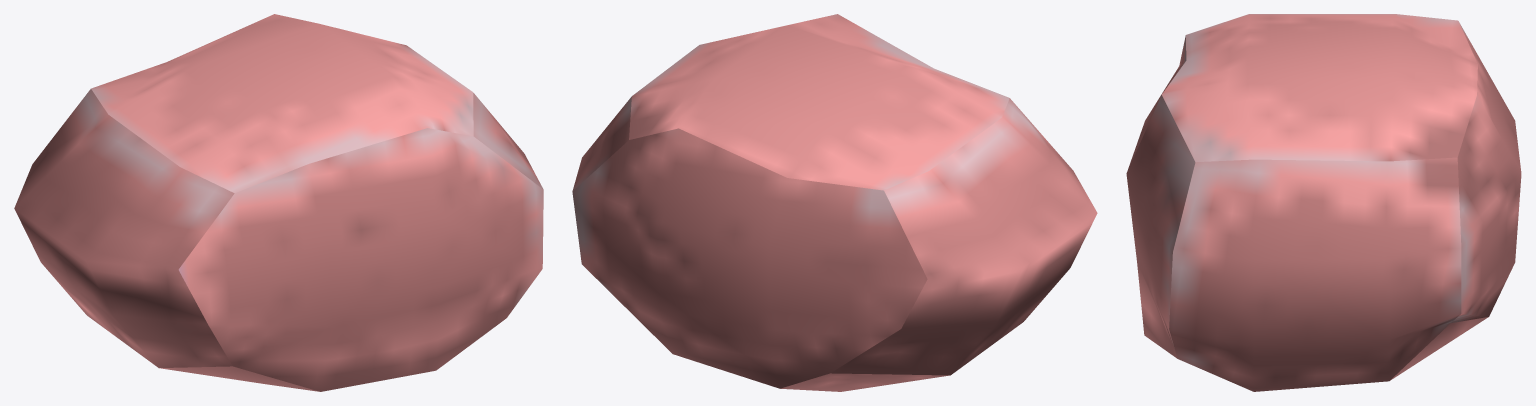
The model's file is split_poling1.fbx.
3 renders of one model, left to right at view 1: azimuth 30°, elevation 25°; view 2: azimuth 150°, elevation 25°; view 3: azimuth 270°, elevation 25°, orthographic.
Visible parts, largest first — view 1: pCube12; view 2: pCube12; view 3: pCube12.
Boxes of the visible parts, x1=… form: pCube12: x1=14, y1=14, x2=543, y2=391; pCube12: x1=572, y1=14, x2=1097, y2=391; pCube12: x1=1126, y1=14, x2=1521, y2=391.
Bounding box in the file's own units: 119 × 70.98 × 89.87.
